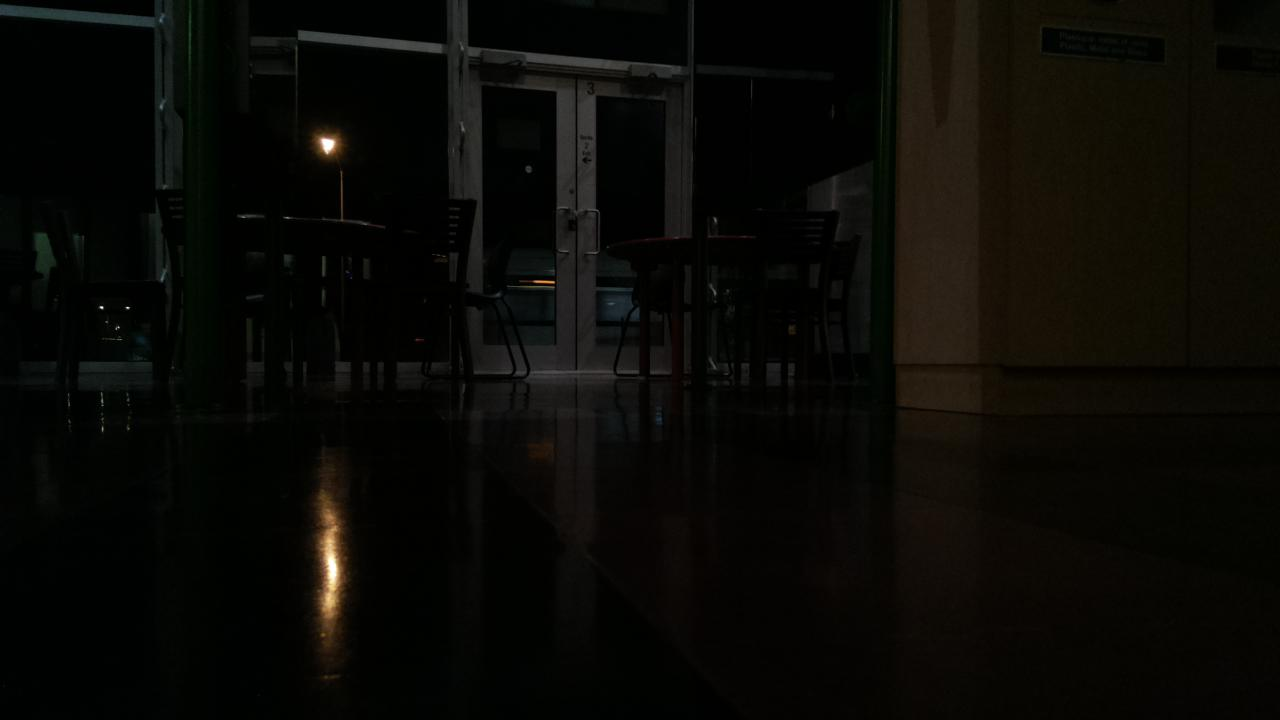door: (467, 65, 682, 371)
